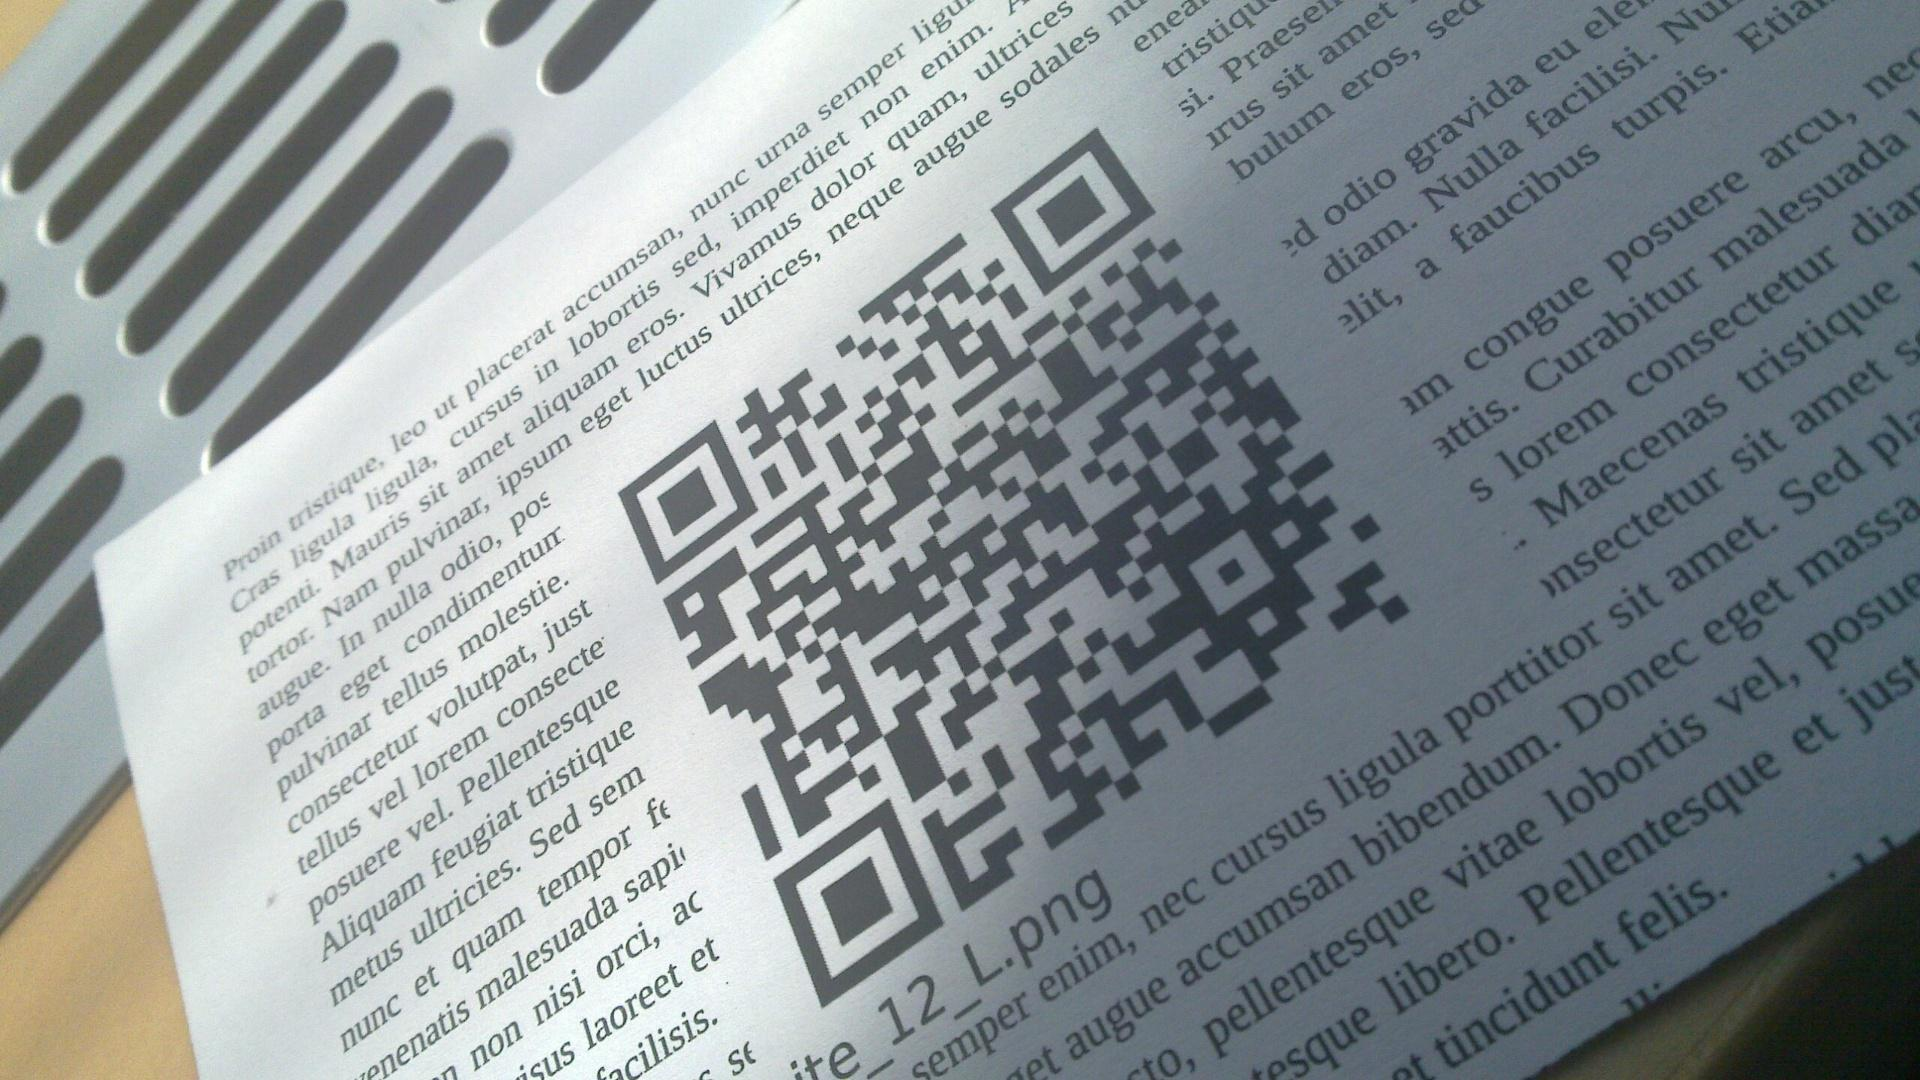Finder pattern: (775, 804, 942, 1004), (996, 127, 1155, 294), (616, 426, 758, 582)
